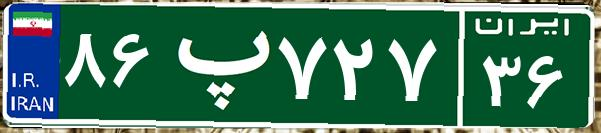2: (330, 28, 385, 110)
3: (475, 38, 525, 113)
6: (110, 28, 158, 105), (525, 38, 570, 115)
7: (385, 28, 445, 110), (273, 28, 330, 110)
8: (57, 26, 110, 107)
پ: (158, 15, 273, 115)
